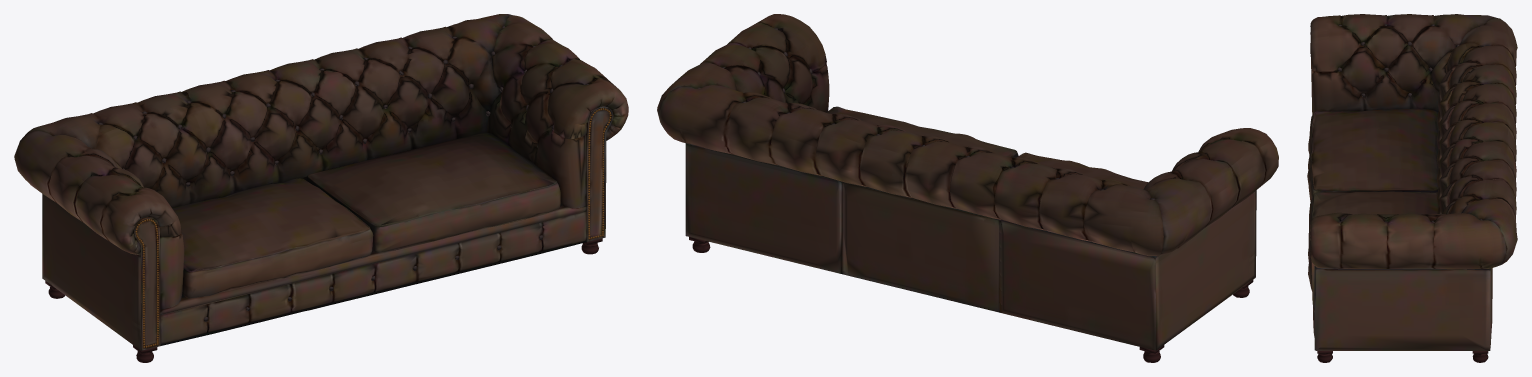
The model's file is origen-sofa-v1.glb.
The picture shows the model from 3 angles, left to right: view 1: azimuth 30°, elevation 25°; view 2: azimuth 150°, elevation 25°; view 3: azimuth 270°, elevation 25°; orthographic projection. The views are drawn at different scales.
Visible parts, largest first — view 1: pasted__sofabody2, pasted__sodametals, pasted__sofabuttons, pasted__sofalegs; view 2: pasted__sofabody2, pasted__sofalegs; view 3: pasted__sofabody2, pasted__sofalegs, pasted__sofabuttons.
Boxes of the visible parts, x1,y1,x2,y2 form: pasted__sofabody2: (14,14,628,350); pasted__sodametals: (135,108,611,348); pasted__sofabuttons: (54,26,588,321); pasted__sofalegs: (45,238,602,362); pasted__sofabody2: (657,14,1278,350); pasted__sofalegs: (689,237,1253,362); pasted__sofabody2: (1307,14,1517,350); pasted__sofalegs: (1317,351,1488,362); pasted__sofabuttons: (1337,24,1482,222).
Bounding box in the file's own units: 1215 × 372 × 482.
4 materials, 1 textured.
